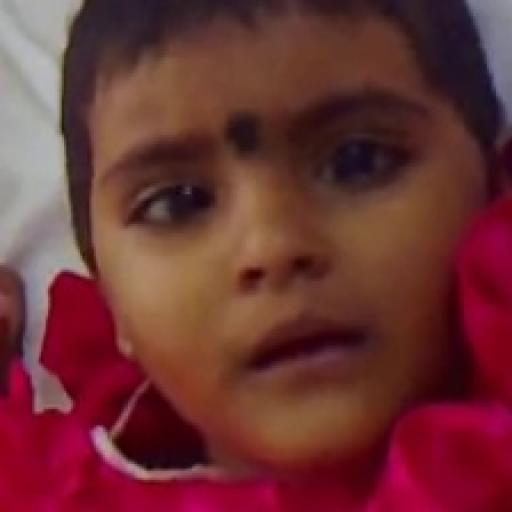Autism: (58, 17, 474, 465)
